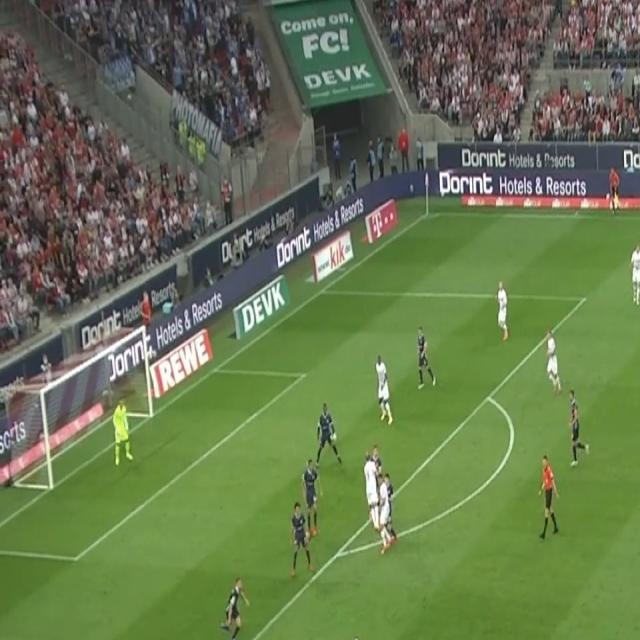ball: (351, 636, 362, 640)
